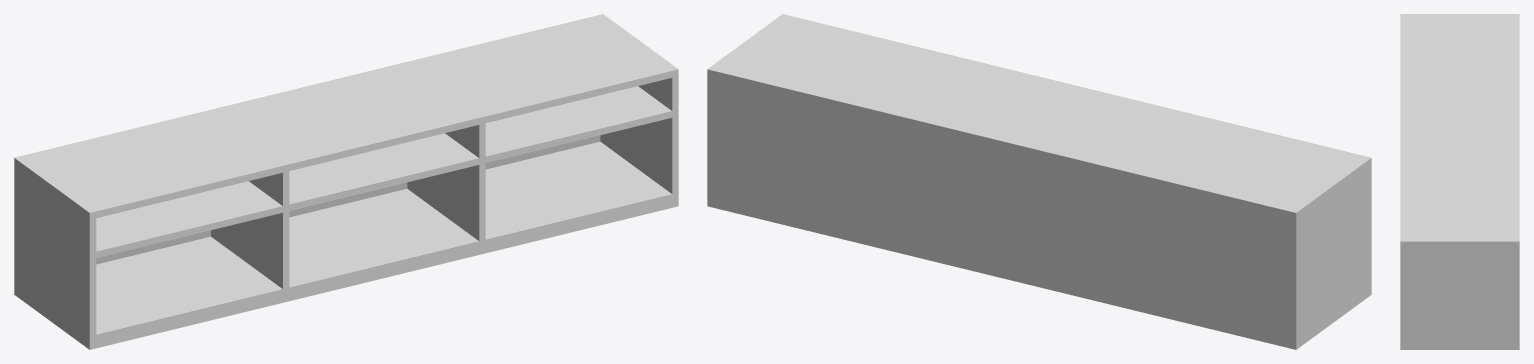
File: TV_Table1_C1.fbx
3 renders of one model, left to right at view 1: azimuth 30°, elevation 25°; view 2: azimuth 150°, elevation 25°; view 3: azimuth 270°, elevation 25°, orthographic. The views are drawn at different scales.
Visible parts, largest first — view 1: TV_Table1_C1; view 2: TV_Table1_C1; view 3: TV_Table1_C1.
Part boxes in pixels (left/top/right/bottom): TV_Table1_C1: left=14, top=14, right=678, bottom=349; TV_Table1_C1: left=707, top=14, right=1371, bottom=349; TV_Table1_C1: left=1400, top=14, right=1519, bottom=349.
Bounding box in the file's own units: 180 × 40 × 40.
